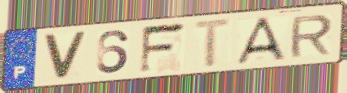6: (96, 29, 132, 76)
A: (233, 15, 289, 66)
F: (137, 20, 189, 76)
R: (287, 13, 335, 60)
T: (191, 17, 236, 71)
V: (41, 31, 90, 82)
